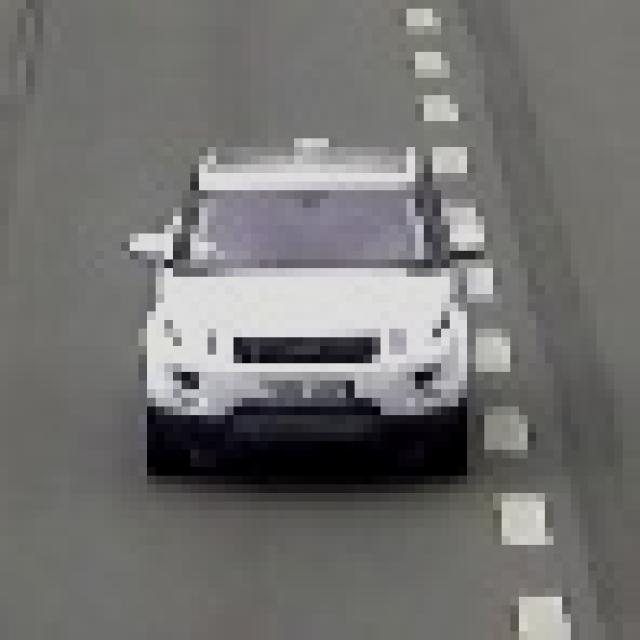SUV: (156, 153, 451, 472)
